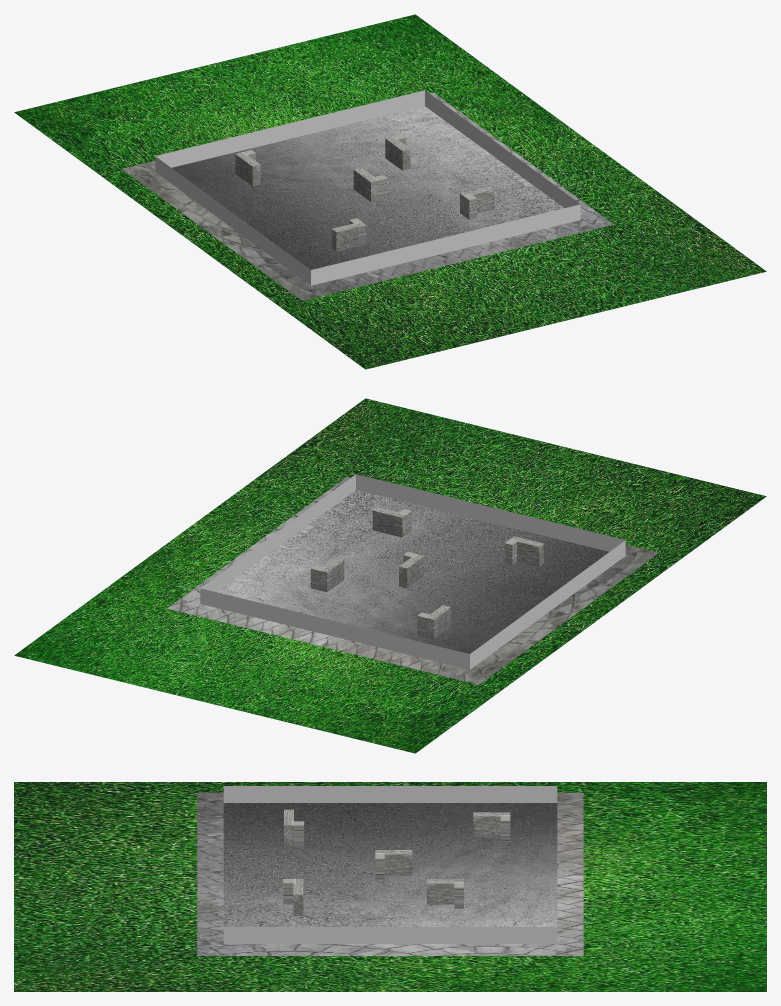
File: mapaversion2.glb
The picture shows the model from 3 angles, top to bottom: view 1: azimuth 30°, elevation 25°; view 2: azimuth 150°, elevation 25°; view 3: azimuth 270°, elevation 25°; orthographic projection. The views are drawn at different scales.
Parts seen in each view (by area): view 1: Plane.002, Plane, Plane.001, Cube.003, Cube.004, Cube, Cube.001, Cube.005; view 2: Plane.002, Plane, Plane.001, Cube.003, Cube.004, Cube.001, Cube.005, Cube; view 3: Plane.002, Plane, Plane.001, Cube.005, Cube, Cube.001, Cube.004, Cube.003.
Boxes of the visible parts, x1=… form: Plane.002: x1=14, y1=14, x2=766, y2=369; Plane: x1=155, y1=90, x2=580, y2=285; Plane.001: x1=122, y1=92, x2=613, y2=300; Cube.003: x1=331, y1=218, x2=366, y2=251; Cube.004: x1=460, y1=186, x2=494, y2=219; Cube: x1=353, y1=167, x2=387, y2=201; Cube.001: x1=385, y1=134, x2=410, y2=170; Cube.005: x1=235, y1=150, x2=260, y2=186; Plane.002: x1=14, y1=398, x2=766, y2=753; Plane: x1=200, y1=474, x2=625, y2=669; Plane.001: x1=167, y1=476, x2=658, y2=684; Cube.003: x1=504, y1=536, x2=543, y2=566; Cube.004: x1=372, y1=507, x2=411, y2=537; Cube.001: x1=310, y1=558, x2=344, y2=592; Cube.005: x1=417, y1=605, x2=450, y2=639; Cube: x1=399, y1=552, x2=424, y2=588; Plane.002: x1=14, y1=782, x2=766, y2=991; Plane: x1=223, y1=786, x2=557, y2=943; Plane.001: x1=197, y1=792, x2=583, y2=955; Cube.005: x1=473, y1=812, x2=510, y2=841; Cube: x1=375, y1=850, x2=412, y2=879; Cube.001: x1=426, y1=879, x2=463, y2=908; Cube.004: x1=283, y1=879, x2=303, y2=915; Cube.003: x1=284, y1=809, x2=304, y2=846.
Size of the model in its own units: 53.38 by 2.72 by 80.95.
Materials: 5 (4 with a texture image).
